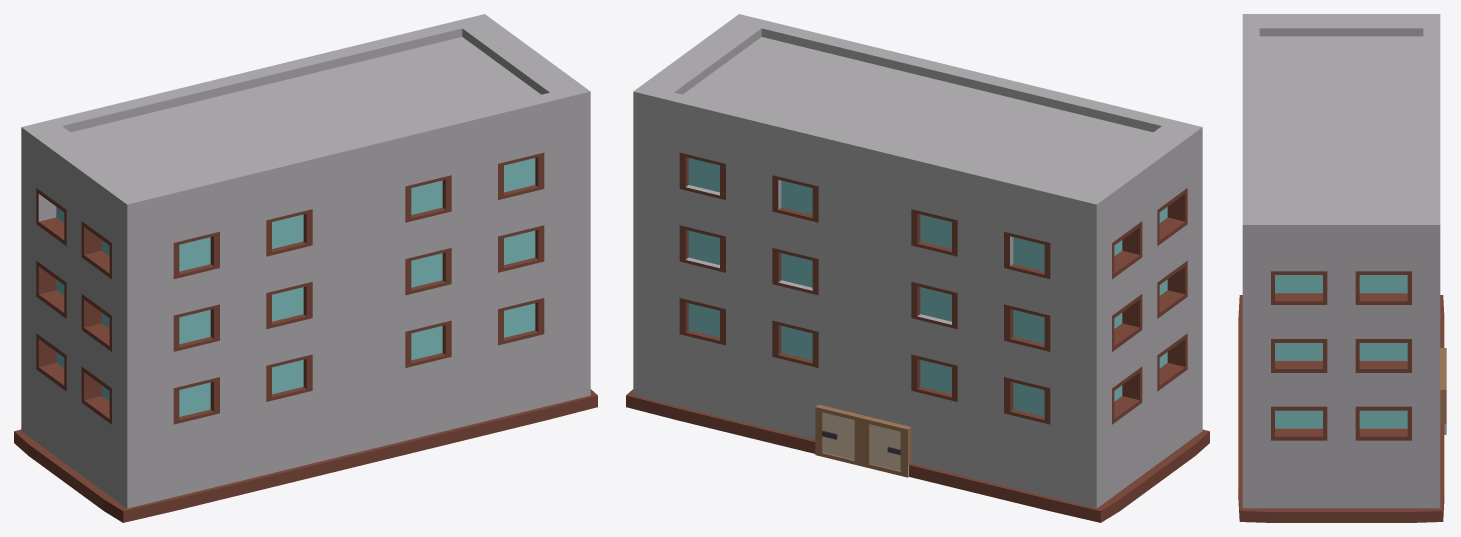
The model's file is BUILDING_02.fbx.
The picture shows the model from 3 angles, left to right: view 1: azimuth 30°, elevation 25°; view 2: azimuth 150°, elevation 25°; view 3: azimuth 270°, elevation 25°; orthographic projection. The views are drawn at different scales.
Parts seen in each view (by area): view 1: Cube; view 2: Cube; view 3: Cube.
Part boxes in pixels (<box>): Cube: <box>14,14,597,522</box>; Cube: <box>626,14,1209,522</box>; Cube: <box>1238,14,1446,522</box>.
Bounding box in the file's own units: 2781 × 1750 × 1122.
1 material, 1 textured.
